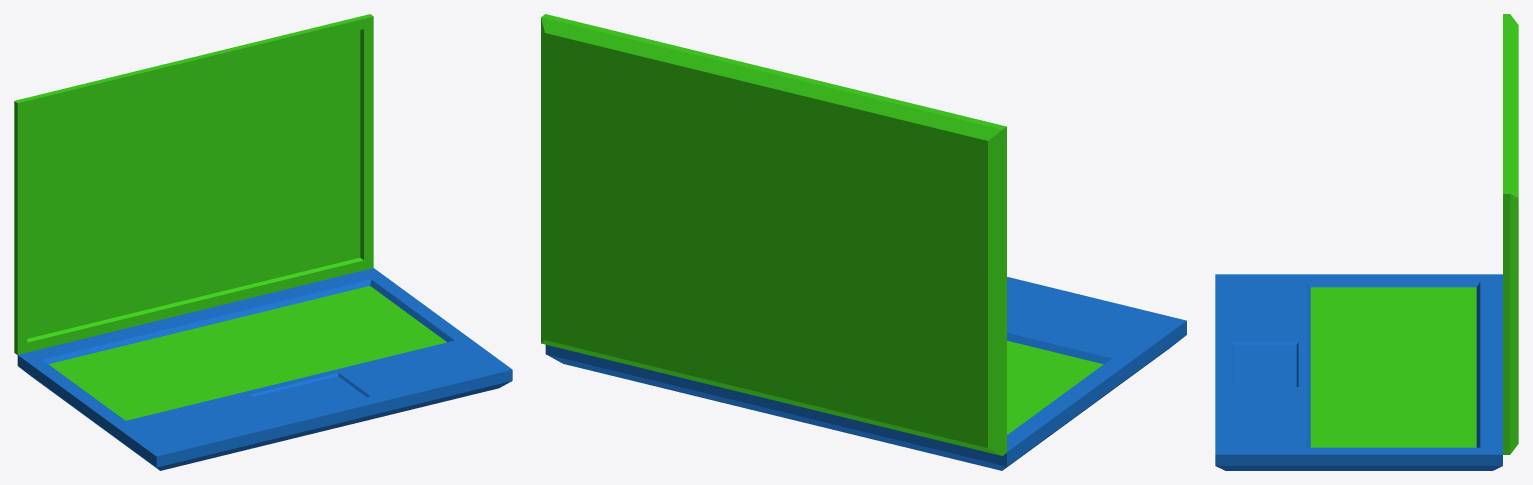
File: SM_laptop1.fbx
3 views of the same model, side by side, from view 1: azimuth 30°, elevation 25°; view 2: azimuth 150°, elevation 25°; view 3: azimuth 270°, elevation 25° (orthographic). The views are drawn at different scales.
Visible parts, largest first — view 1: Cube_4, laptop1; view 2: Cube_4, laptop1; view 3: laptop1, Cube_4.
Boxes of the visible parts, x1,y1,x2,y2 form: Cube_4: (14,14,373,354); laptop1: (17,268,512,470); Cube_4: (541,14,1006,455); laptop1: (545,277,1186,470); laptop1: (1215,274,1502,470); Cube_4: (1503,14,1518,454).
Size of the model in its own units: 37 by 26.96 by 26.35.
